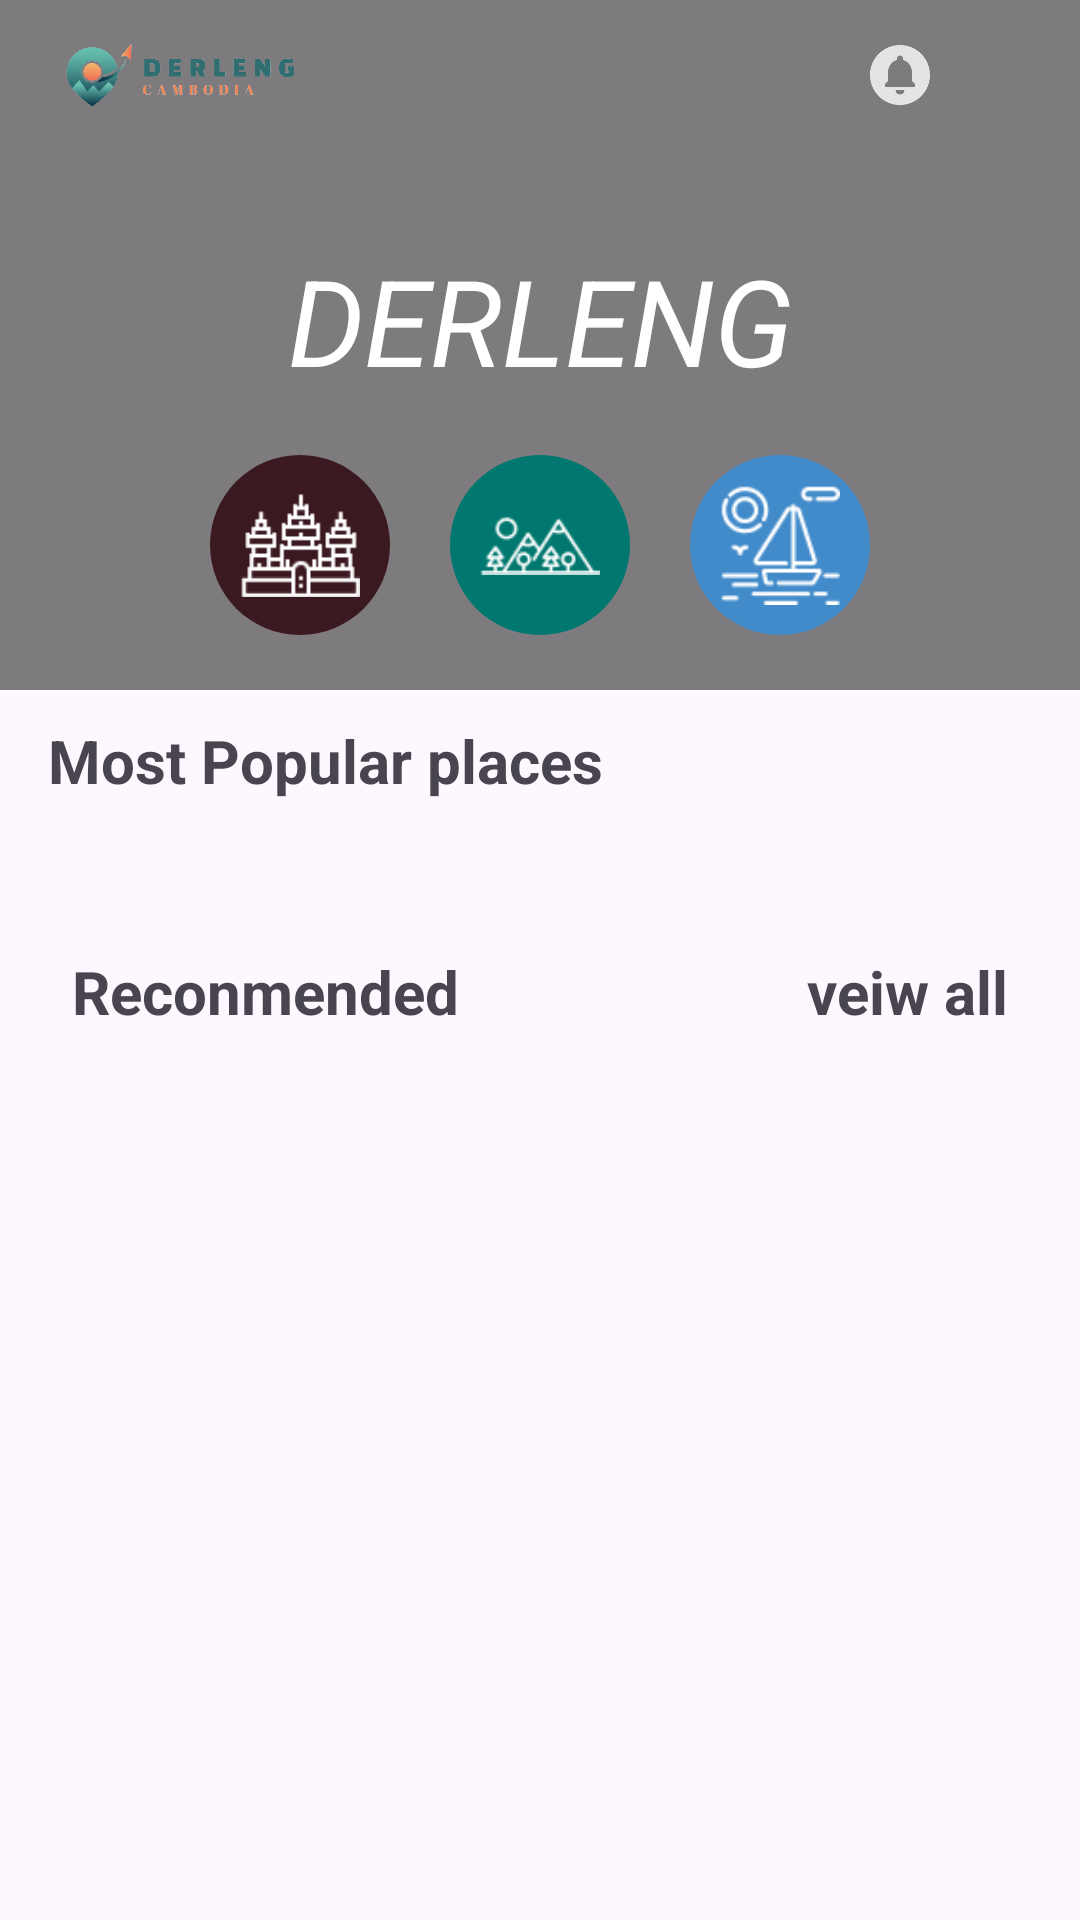

Screen size 1080×1920. Icon name, then its box in pixels as [x1, y1, x2, y2]:
notification: [870, 45, 930, 105]
